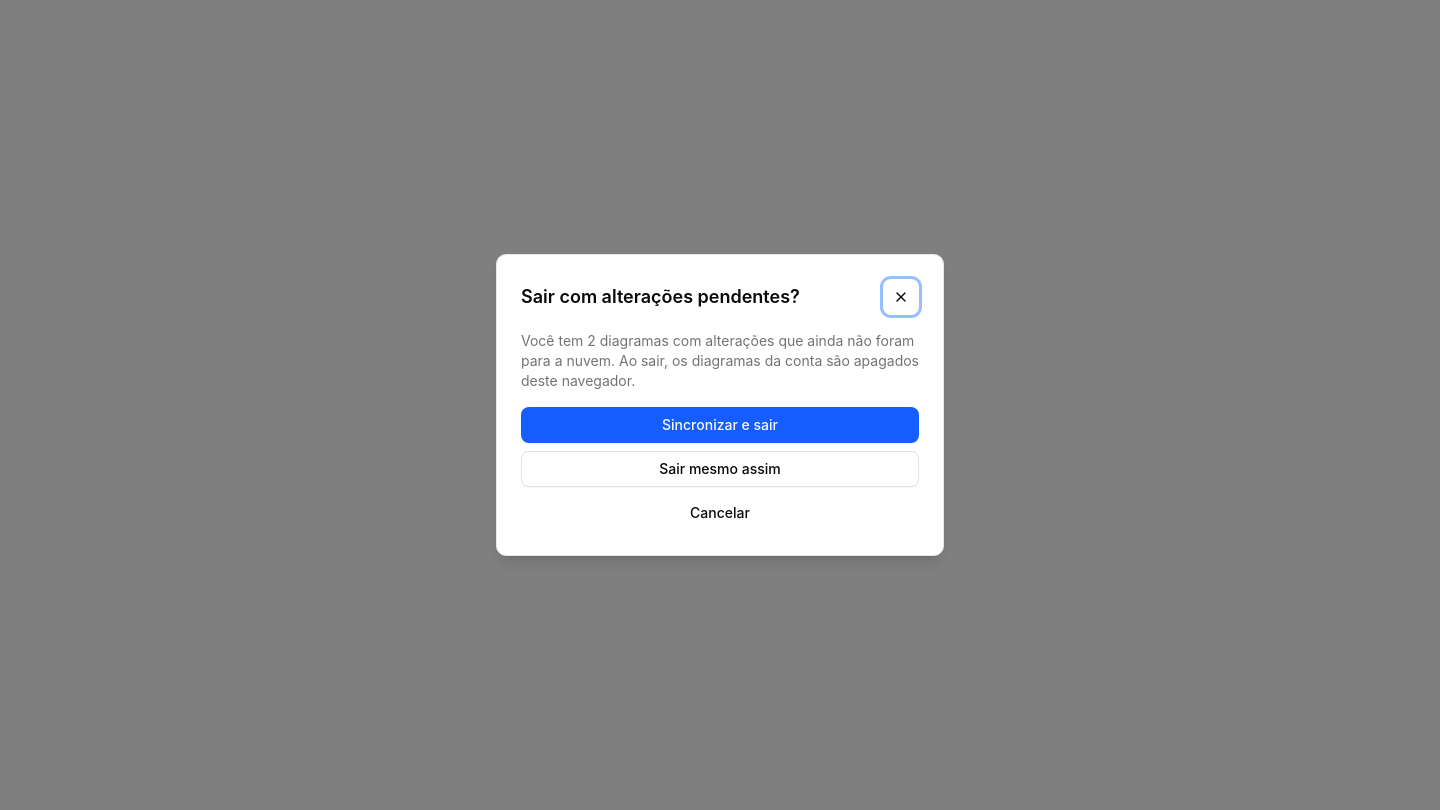
Test: SignOutDialog › stays signed in and explains when some diagrams could not be synced
Step 1. Click the button "Sincronizar e sair" → (720, 425), box left=521, top=407, right=919, bottom=443
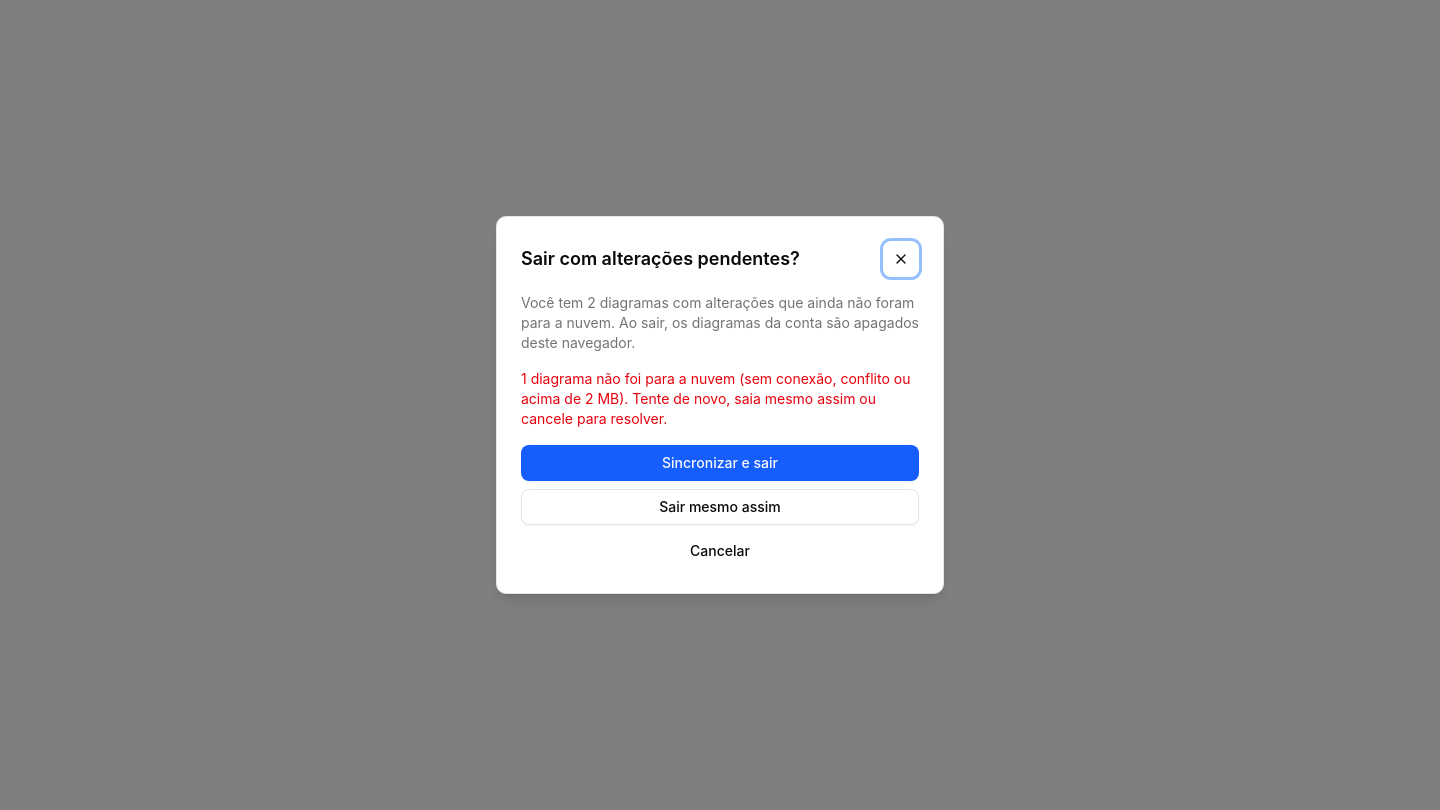
Expected: the button "Sair mesmo assim" is enabled, left=521, top=489, right=919, bottom=525
Expected: the message shows "1 diagrama não foi para a nuvem", left=521, top=370, right=910, bottom=427
